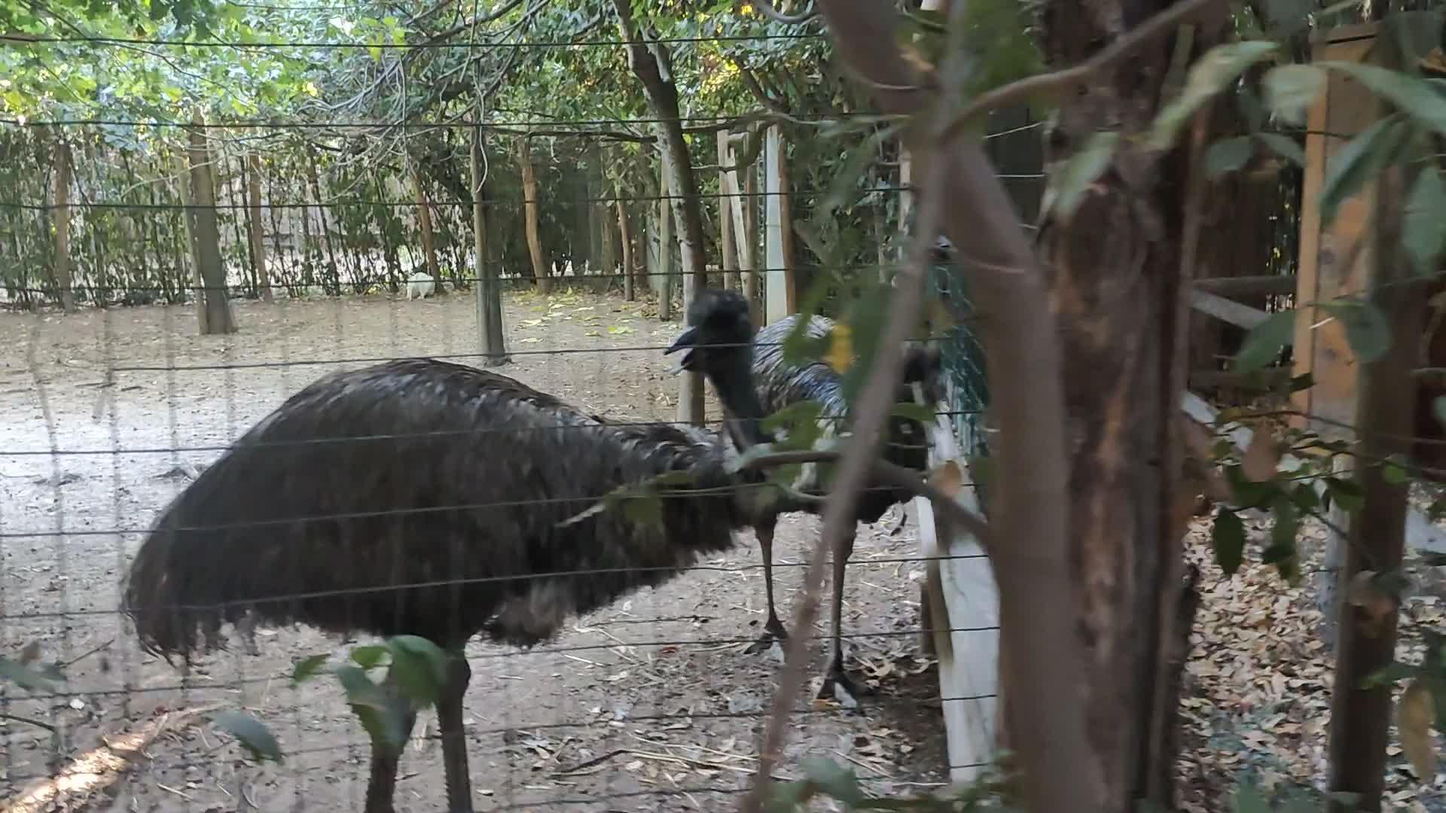apple: (121, 287, 778, 813), (745, 213, 951, 718)
